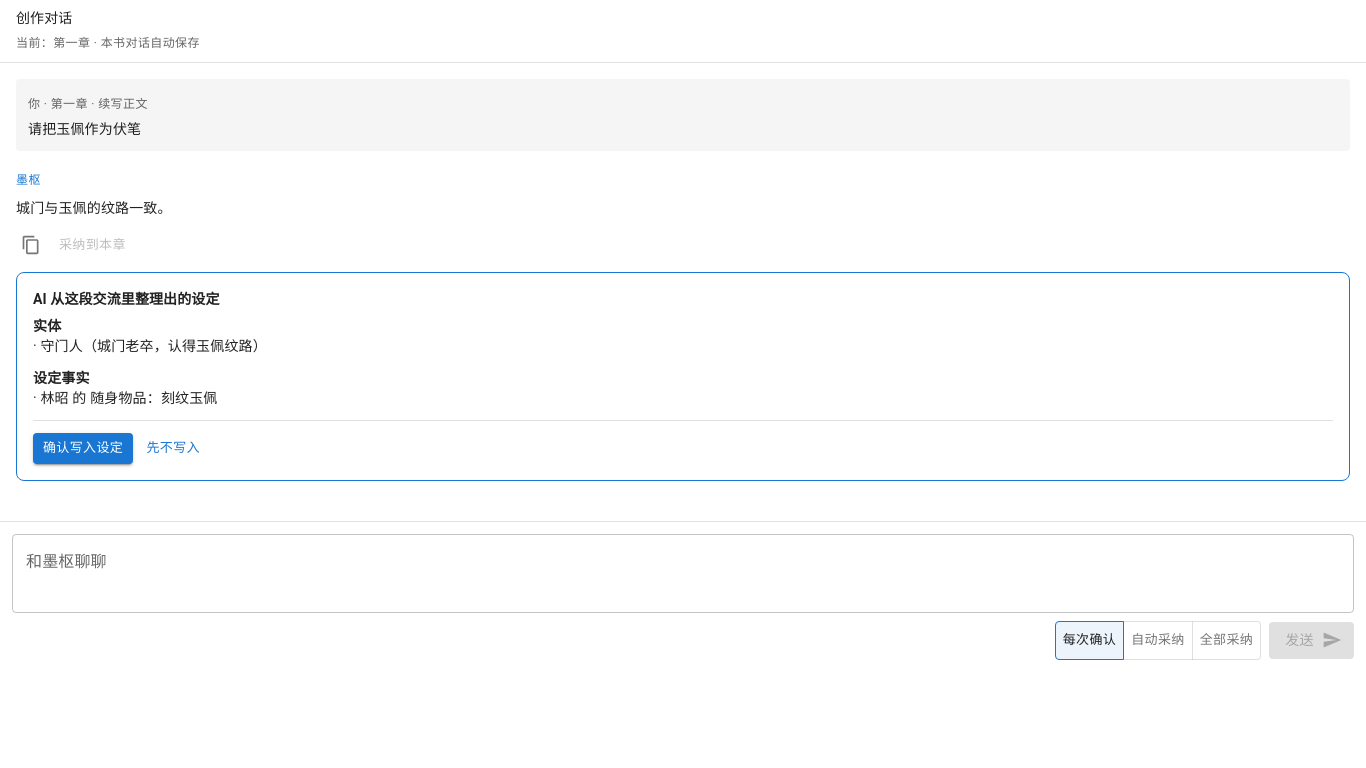
Test case: 设定提案决策 › 「先不写入」也走决策端点落 skipped，终态可见
Click the button "先不写入" at (173, 449), box [141,433,205,464]
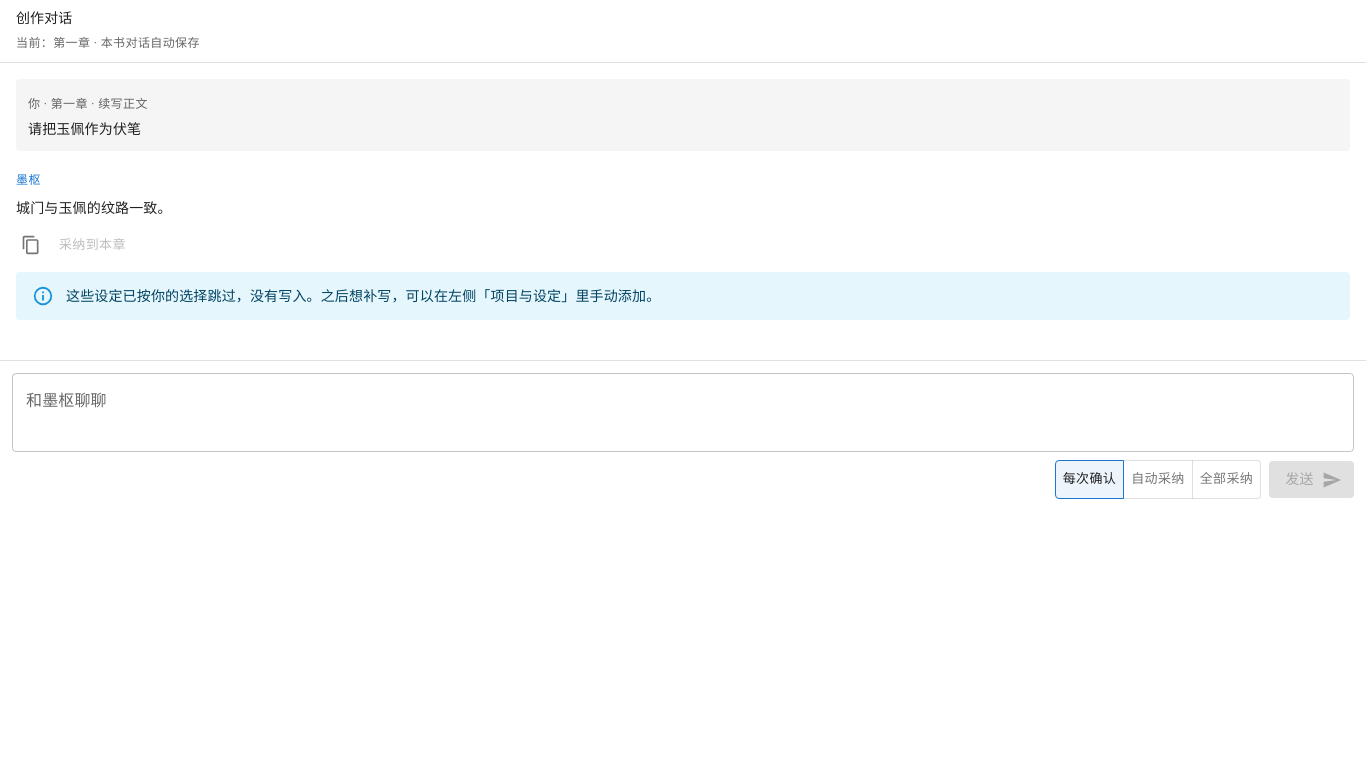
expect the text "这些设定已按你的选择跳过，没有写入。之后想补写，可以在左侧「项目与设定」里手动添加。" is shown: met, box [66,288,660,304]
